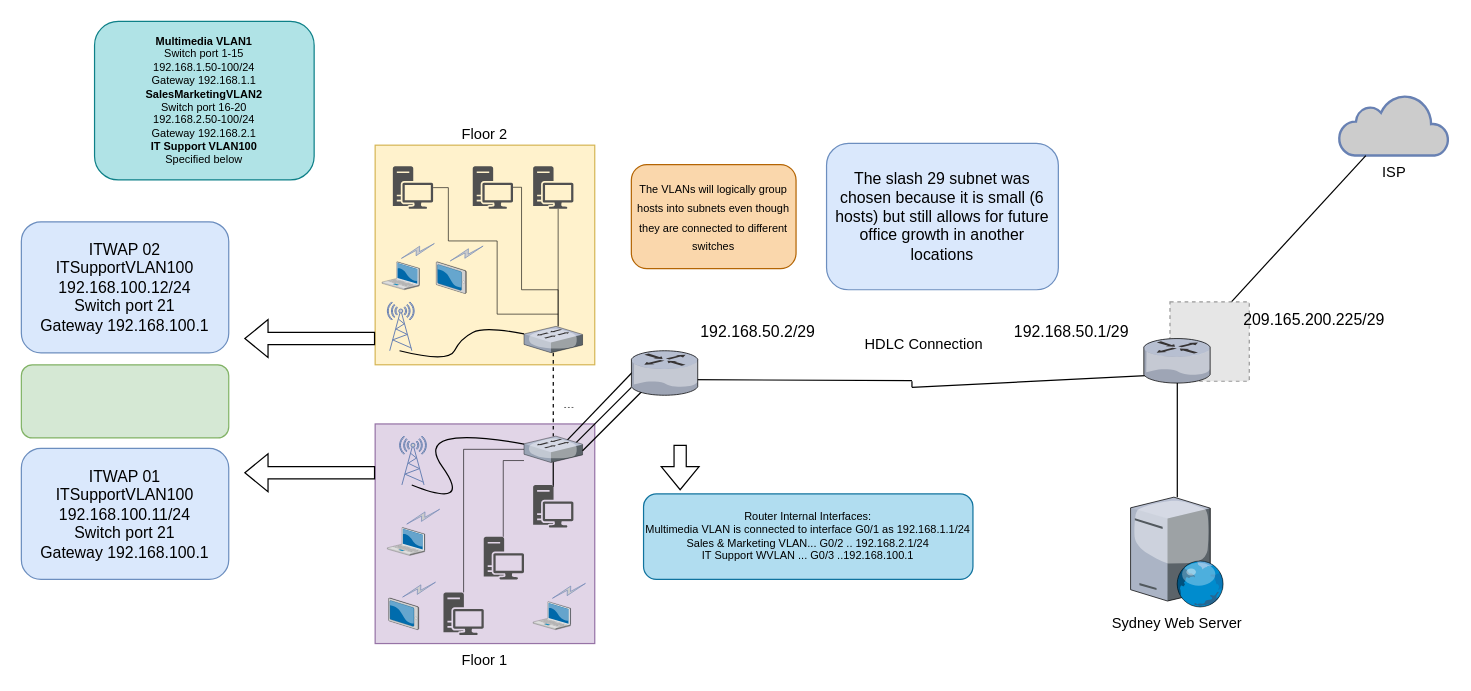
This 1471x691 diagram has some shape labels left out. Grey dashed boxes stand in for pictures. Here are the shapes that lost their labels. From the top down, the centre of each, then its label:
At (664,372): "Perth Router".
At (1176,360): "Sydney Router".
At (124,401): "WAP DHCP: Range: 192.168.100.50-100/24 Gateway: 192.168.100.1".
